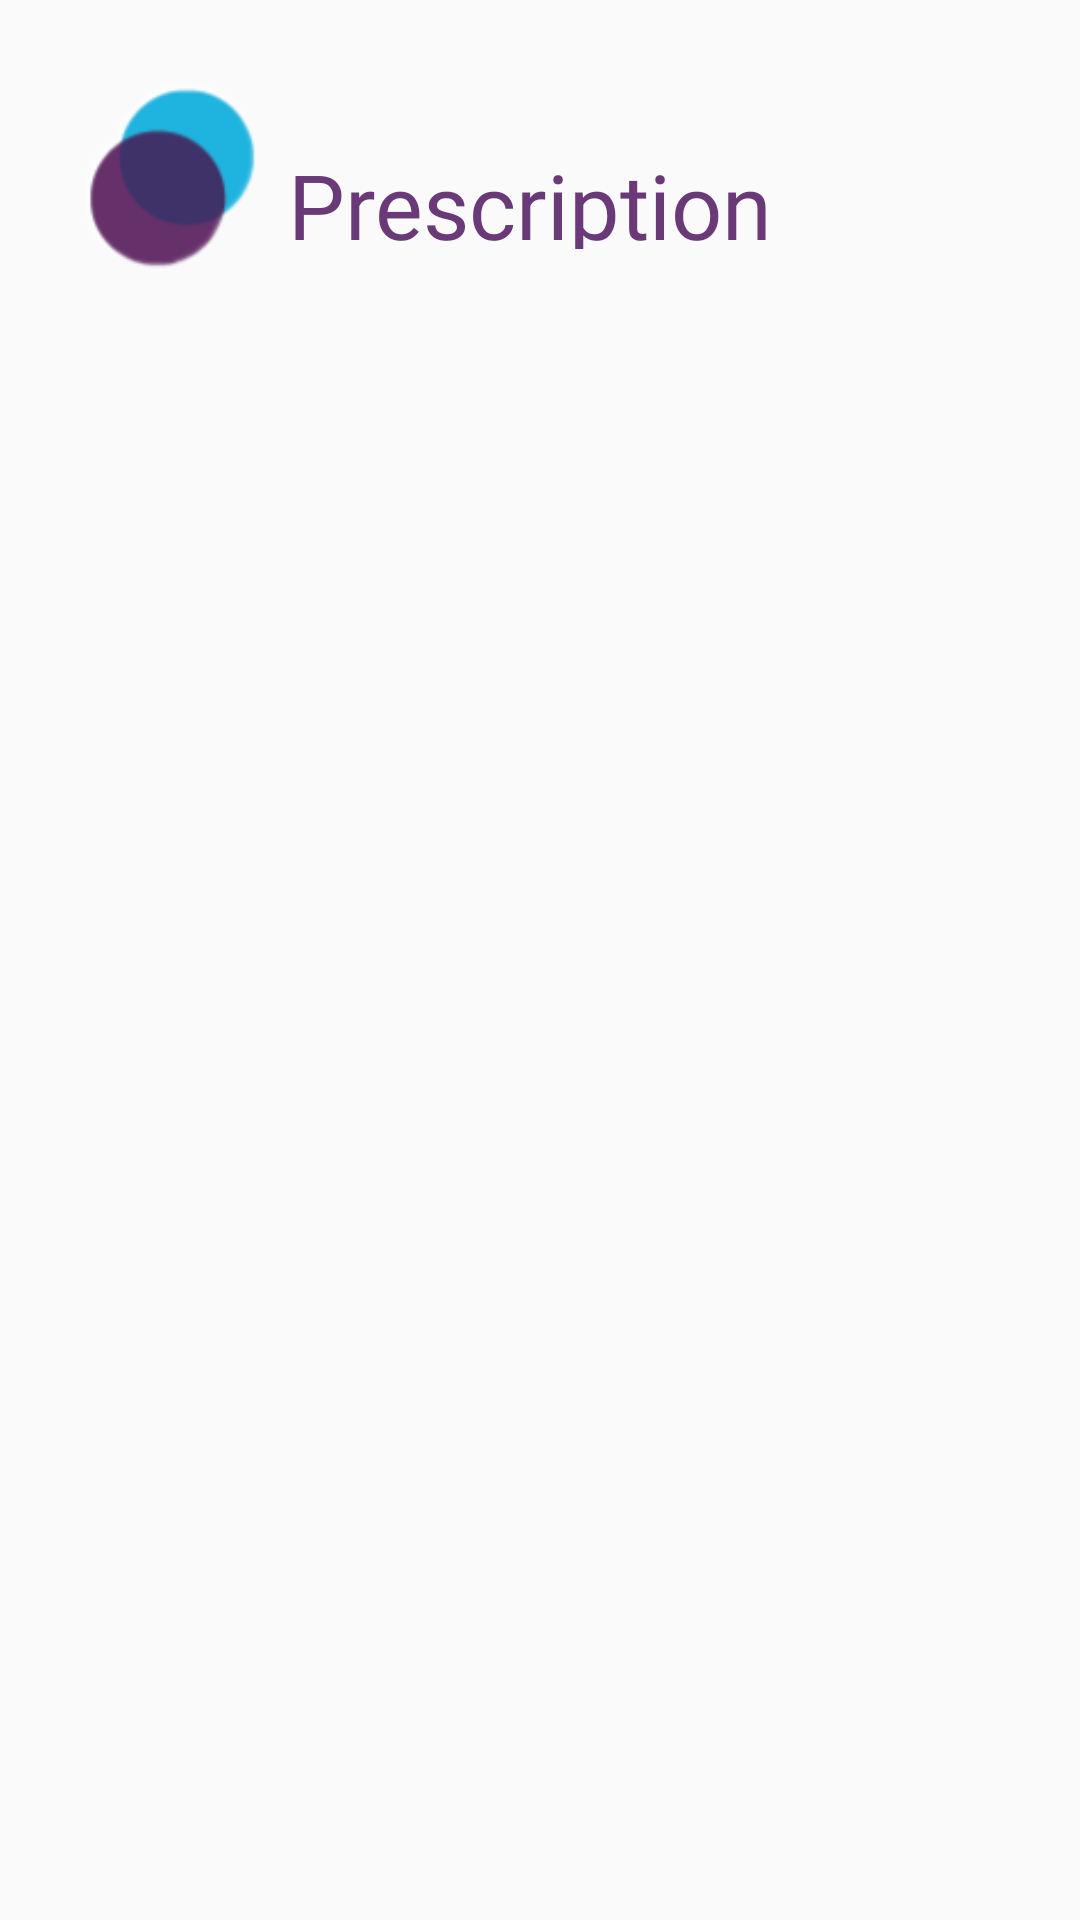

Screen size 1080w x 1920h. Icon name, then its center in pixels as (x,y):
A purple circle semi-overlapping on a blue circle: (172,178)
